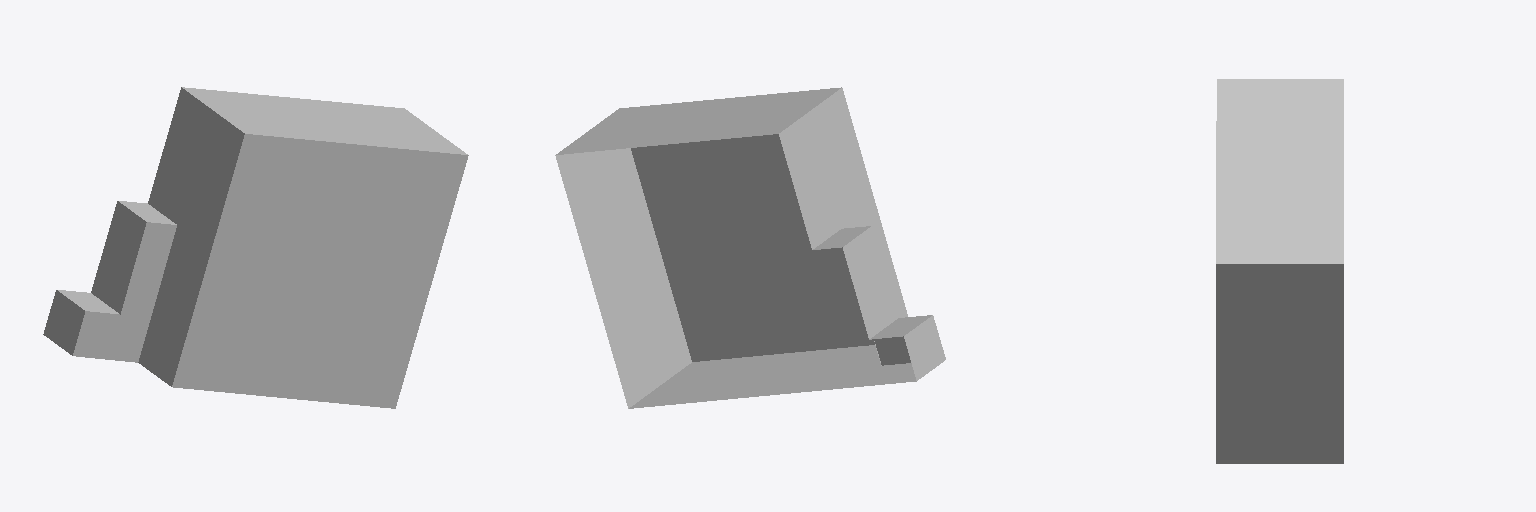
File: talo_Build0000069.obj
3 views of the same model, side by side, from view 1: azimuth 30°, elevation 25°; view 2: azimuth 150°, elevation 25°; view 3: azimuth 270°, elevation 25° (orthographic).
Size of the model in its own units: 26.63 by 21.94 by 8.16.